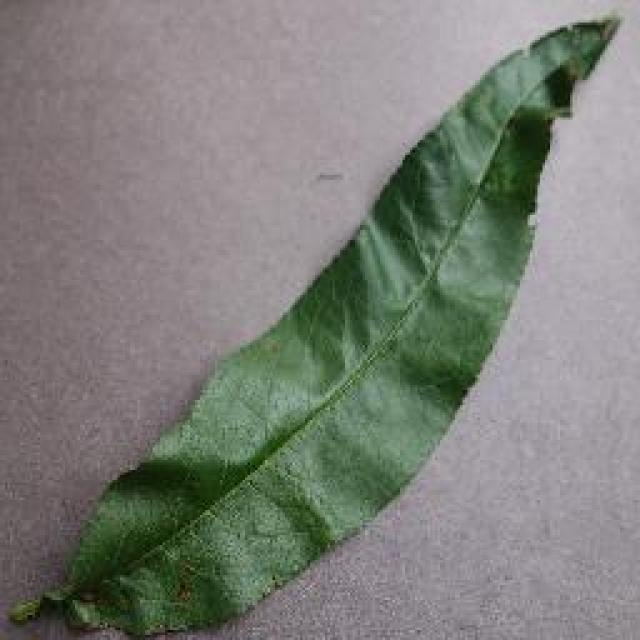Peach_Bacterial_Spot: (467, 55, 590, 225)
